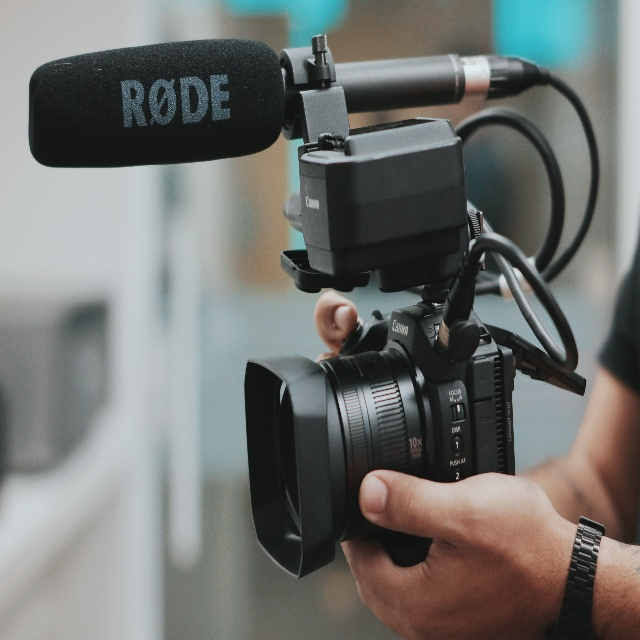Sin_guantes: (340, 468, 565, 640)
